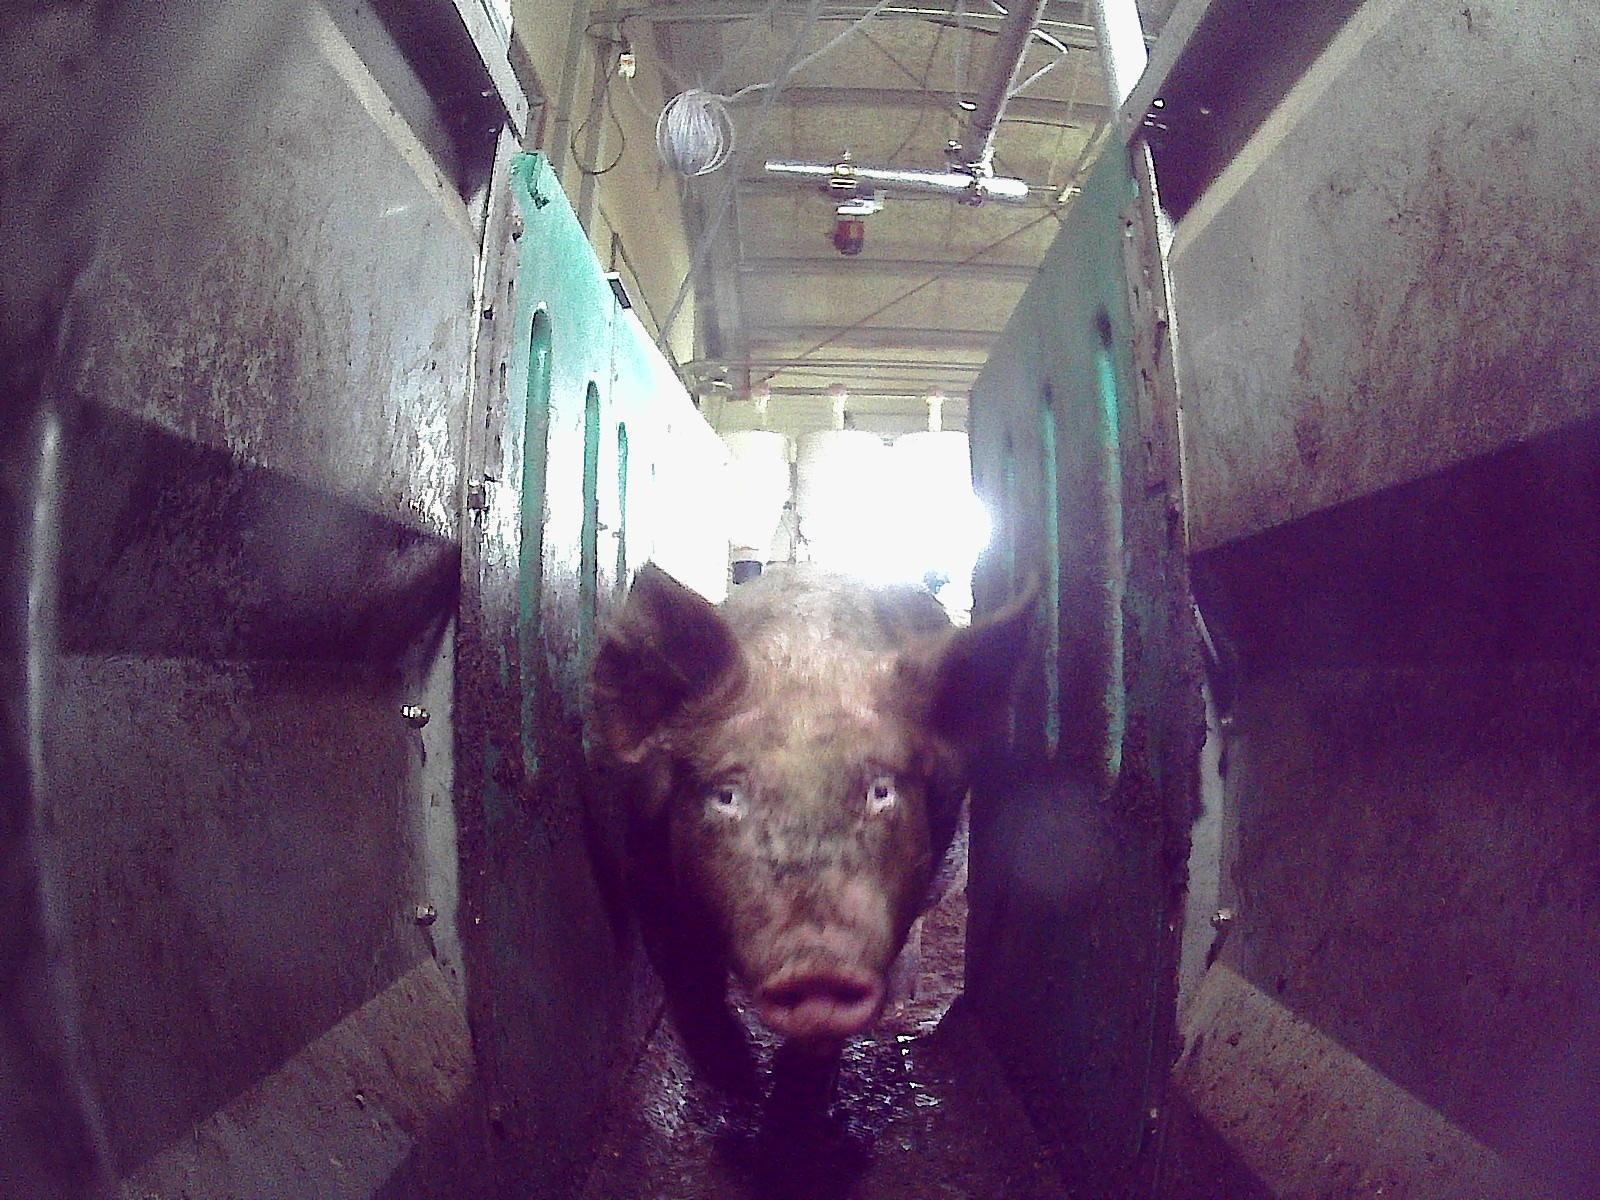Face: (681, 659, 932, 1032)
